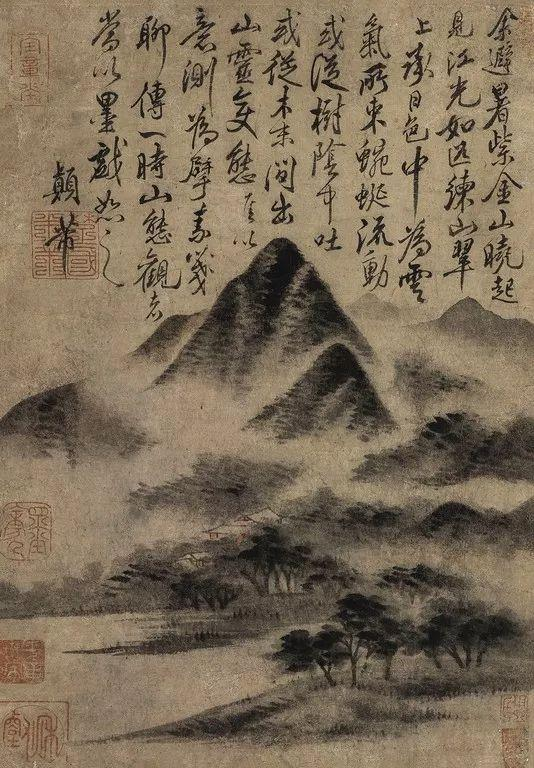hill: (206, 245, 391, 445), (416, 295, 534, 358), (125, 318, 221, 389), (422, 502, 534, 554), (347, 289, 418, 336)
house: (201, 512, 295, 549)
river: (42, 619, 302, 768)
tree: (298, 608, 521, 672), (242, 548, 343, 605), (179, 578, 230, 627)
